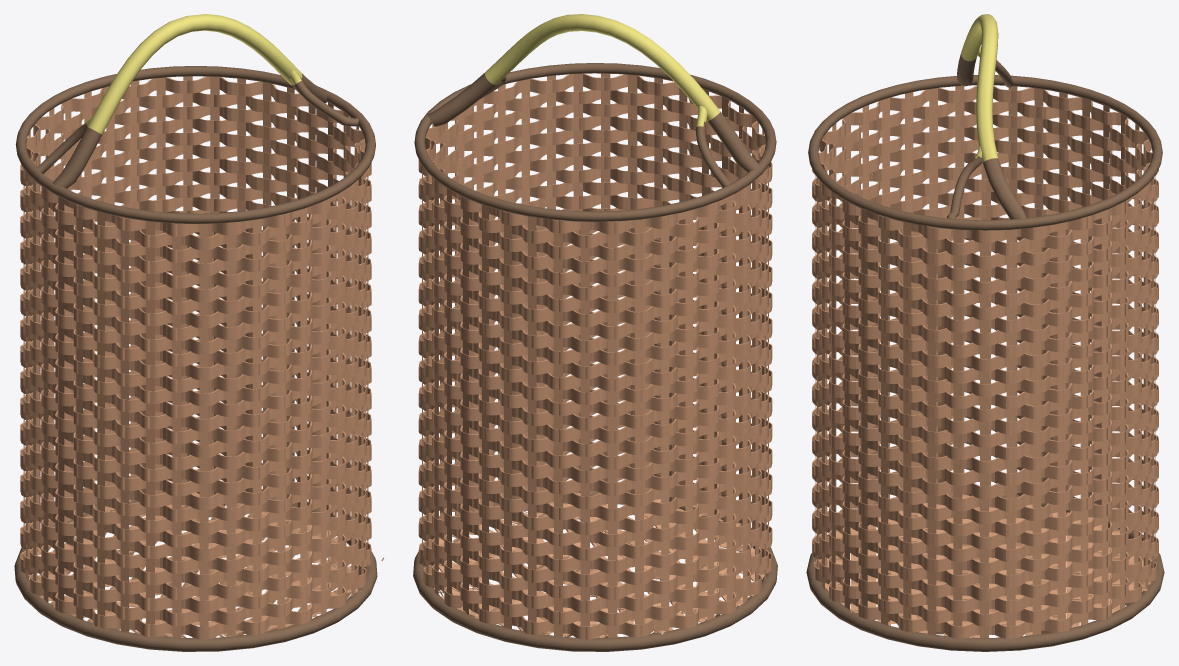
The model's file is reedbasketTall.fbx.
3 views of the same model, side by side, from view 1: azimuth 30°, elevation 25°; view 2: azimuth 150°, elevation 25°; view 3: azimuth 270°, elevation 25° (orthographic). The views are drawn at different scales.
Parts seen in each view (by area): view 1: Reeds; view 2: Reeds; view 3: Reeds.
Part boxes in pixels (x1,y1,x2,y2): Reeds: (14, 14, 383, 651); Reeds: (413, 14, 777, 651); Reeds: (806, 14, 1164, 651).
Bounding box in the file's own units: 208 × 354 × 208.
